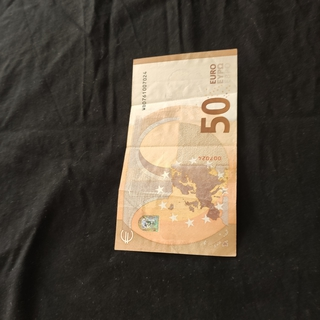50EUROBack: (112, 46, 239, 258)
